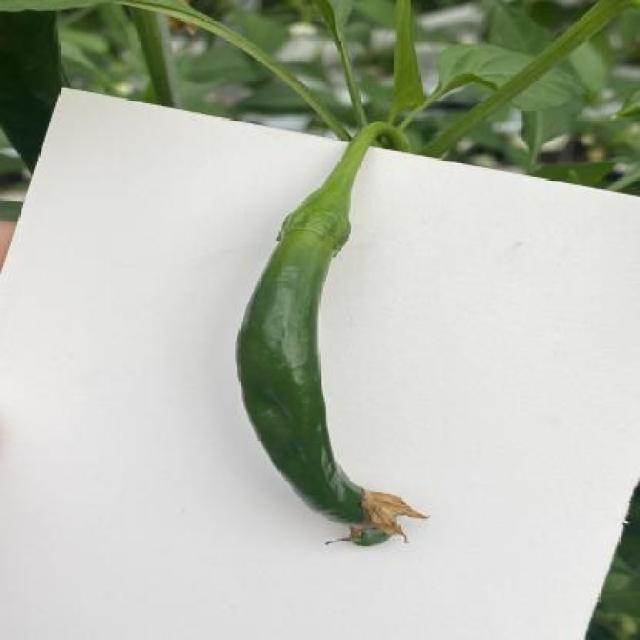green chilli: (235, 229, 397, 546)
